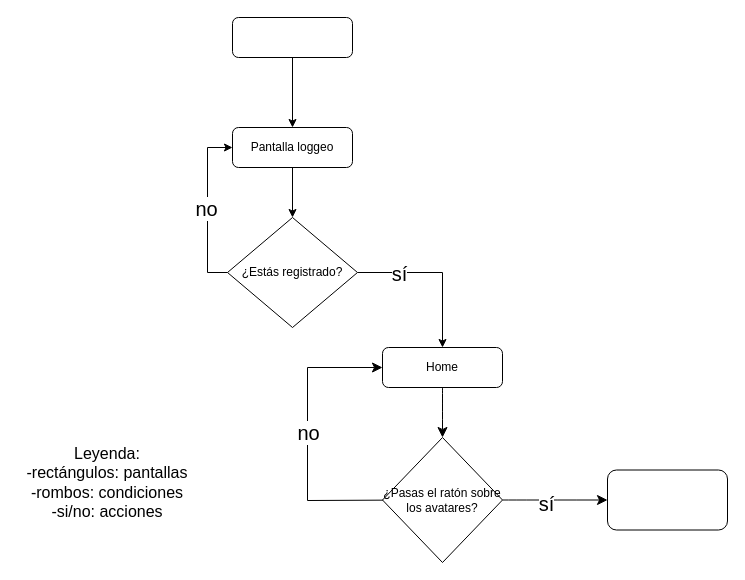
The diagram is 745 pixels wide and 580 high, and some of its shapes have lost their labels. The shapes that lost their labels are listed below. From the top down, each one's centre as x and y in pixels, then its label:
At point (292, 37): "Abrir Web".
At point (667, 499): "color y nombre asociados al avatar".
